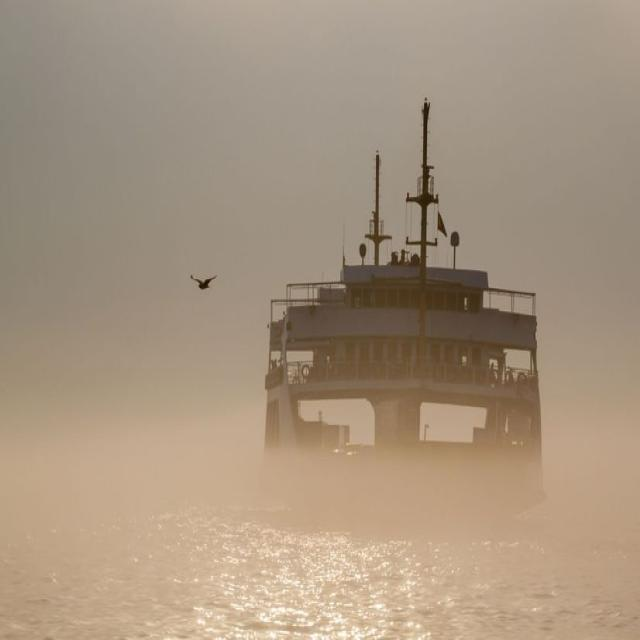passenger ship: (211, 148, 599, 539)
